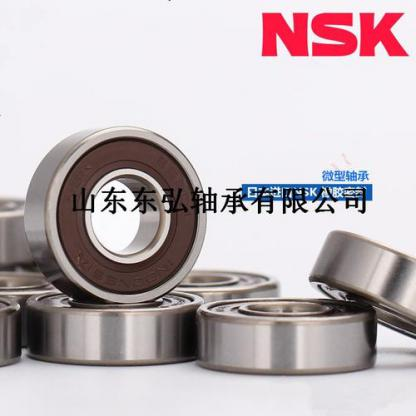FOD: (21, 121, 212, 307), (192, 293, 380, 378), (23, 284, 207, 368), (305, 227, 415, 338)
